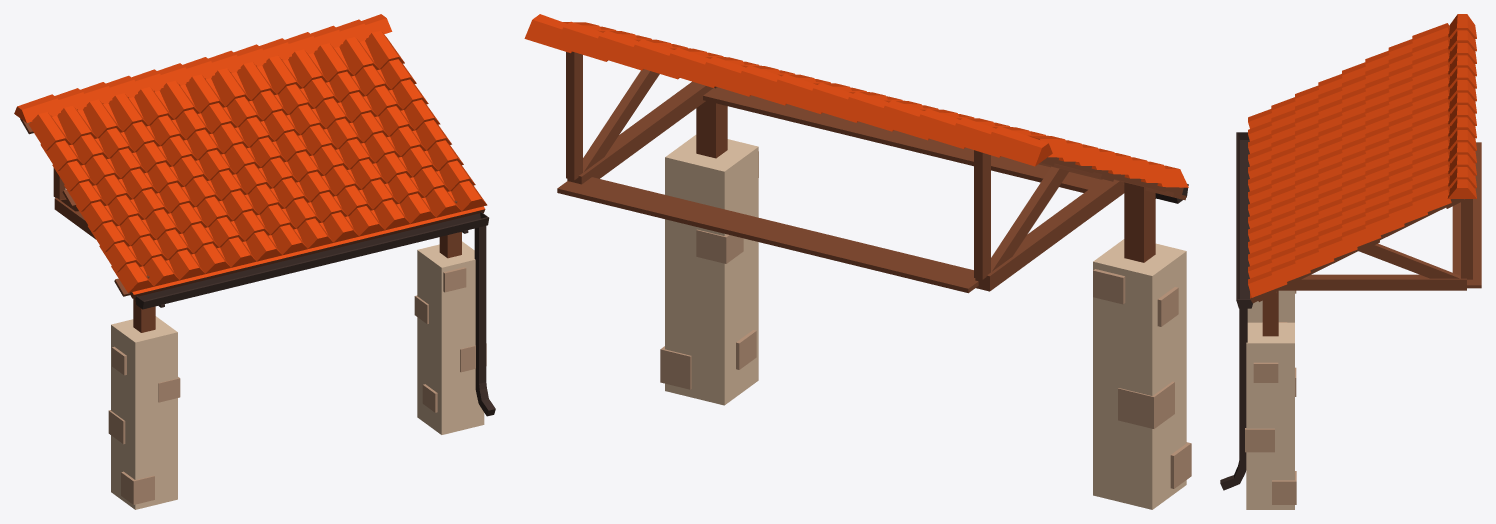
File: roof_2.glb
The picture shows the model from 3 angles, left to right: view 1: azimuth 30°, elevation 25°; view 2: azimuth 150°, elevation 25°; view 3: azimuth 270°, elevation 25°; orthographic projection. The views are drawn at different scales.
Parts seen in each view (by area): view 1: roof 2_brick 3_0; view 2: roof 2_brick 3_0; view 3: roof 2_brick 3_0.
Boxes of the visible parts, x1,y1,x2,y2 form: roof 2_brick 3_0: (14,14,495,509); roof 2_brick 3_0: (524,14,1191,509); roof 2_brick 3_0: (1220,14,1481,509).
Bounding box in the file's own units: 5.91 × 5.06 × 3.68.
